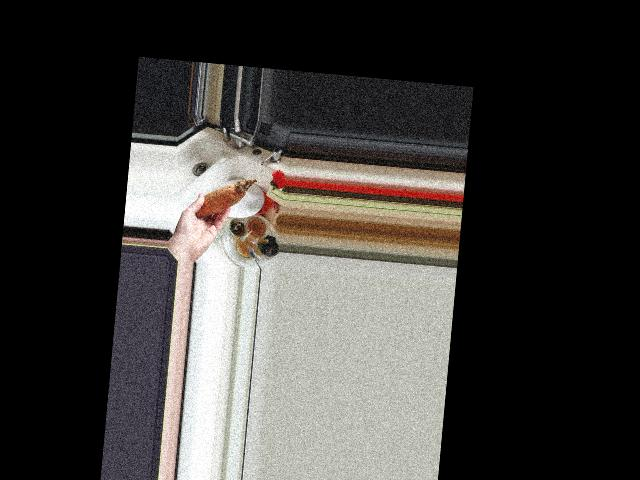sweet_potato: (189, 173, 258, 226)
